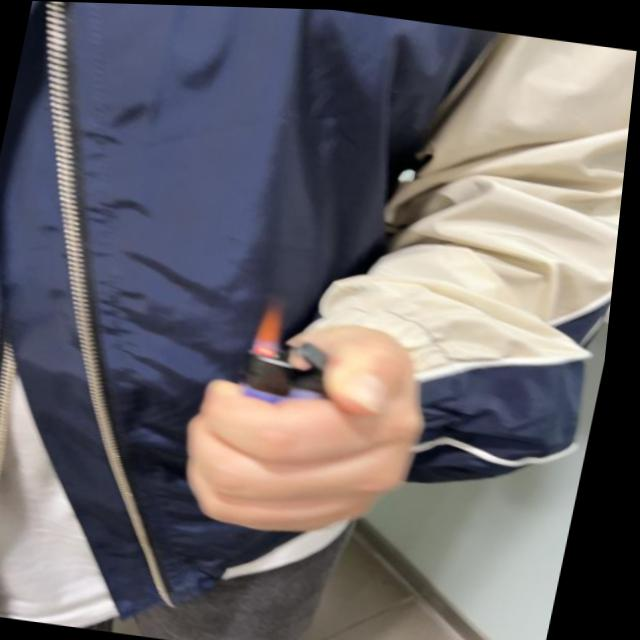Fire: (253, 299, 302, 359)
